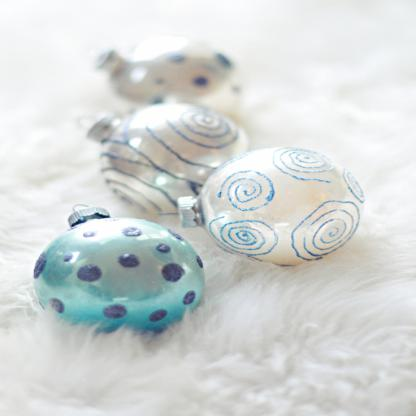Ball: (32, 216, 206, 337), (198, 146, 364, 263), (98, 105, 252, 215), (108, 37, 242, 113)
